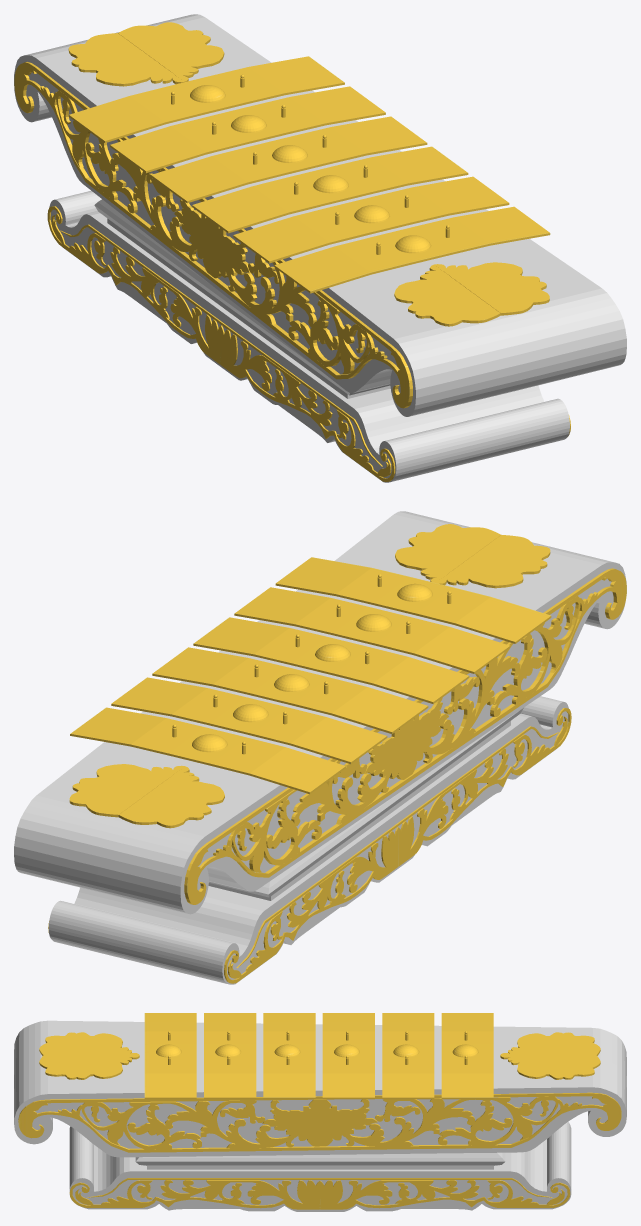
The model's file is itsnewsharon.fbx.
3 views of the same model, one above another, from view 1: azimuth 30°, elevation 25°; view 2: azimuth 150°, elevation 25°; view 3: azimuth 270°, elevation 25° (orthographic). The views are drawn at different scales.
Parts seen in each view (by area): view 1: Plane.002, Untitled, Plane, Plane.001; view 2: Plane.002, Untitled, Plane, Plane.001; view 3: Plane.002, Untitled, Plane.001, Plane.
Boxes of the visible parts, x1=… form: Plane.002: x1=14, y1=14, x2=626, y2=482; Untitled: x1=69, y1=56, x2=550, y2=293; Plane: x1=47, y1=22, x2=570, y2=481; Plane.001: x1=14, y1=62, x2=412, y2=408; Plane.002: x1=14, y1=511, x2=626, y2=984; Untitled: x1=70, y1=557, x2=551, y2=794; Plane: x1=48, y1=524, x2=571, y2=983; Plane.001: x1=184, y1=568, x2=626, y2=904; Plane.002: x1=14, y1=1020, x2=626, y2=1211; Untitled: x1=144, y1=1013, x2=493, y2=1099; Plane.001: x1=18, y1=1092, x2=621, y2=1152; Plane: x1=39, y1=1032, x2=600, y2=1209.
Bounding box in the file's own units: 304 × 230 × 929.
